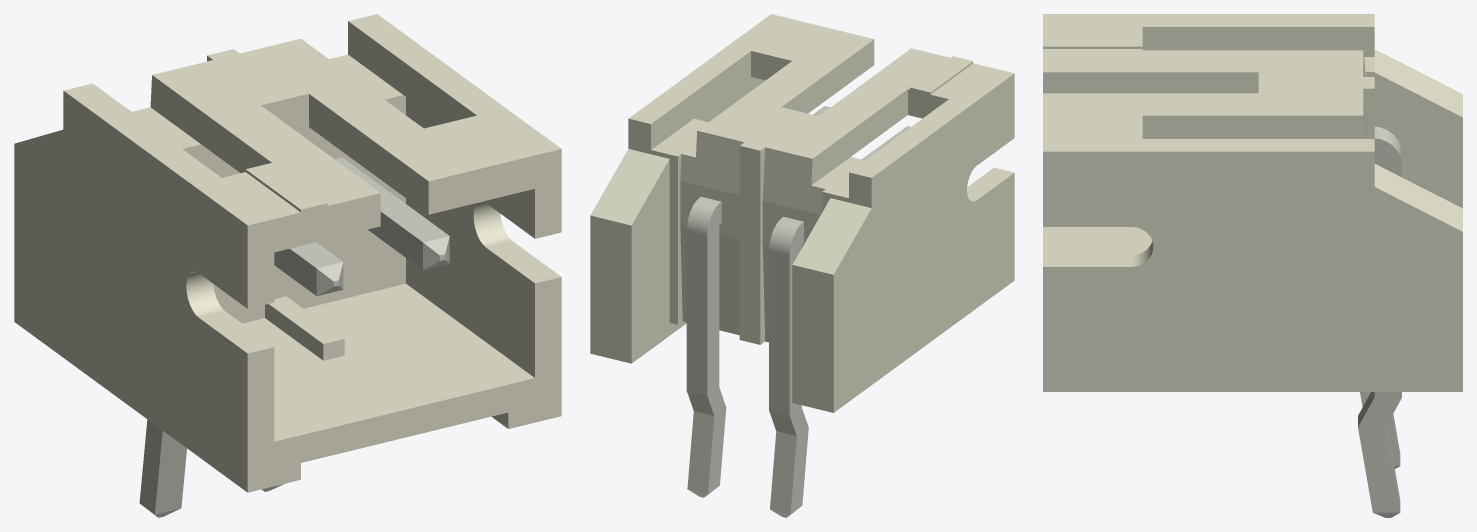
The model's file is Connector_JST__JST_PH_S2B-PH-K_1x02_P2.00mm_Horizontal.glb.
3 views of the same model, side by side, from view 1: azimuth 30°, elevation 25°; view 2: azimuth 150°, elevation 25°; view 3: azimuth 270°, elevation 25° (orthographic). The views are drawn at different scales.
Parts seen in each view (by area): view 1: JST_S2B_PH_K; view 2: JST_S2B_PH_K; view 3: JST_S2B_PH_K.
Part boxes in pixels (x1,y1,x2,y2): JST_S2B_PH_K: (14,14,561,517); JST_S2B_PH_K: (590,14,1014,517); JST_S2B_PH_K: (1043,14,1462,517).
Bounding box in the file's own units: 0.0059 × 0.00825 × 0.0076.
